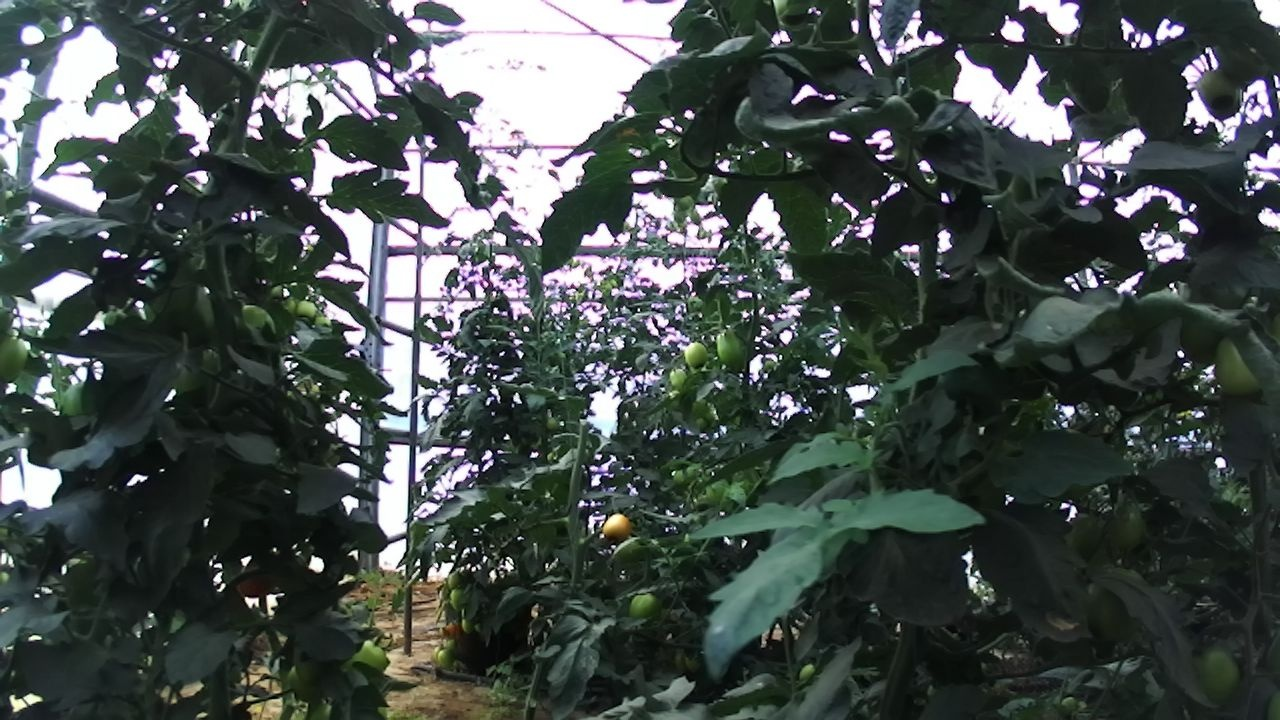tomato: (1203, 324, 1280, 412), (1179, 634, 1259, 716), (1050, 500, 1126, 575), (1187, 62, 1262, 130), (1074, 574, 1137, 648), (332, 628, 402, 691), (1099, 496, 1155, 557), (0, 324, 46, 395), (709, 319, 757, 378), (621, 583, 672, 635), (593, 506, 643, 548), (677, 335, 714, 376), (661, 362, 695, 393), (291, 293, 321, 325), (791, 657, 822, 687), (446, 584, 471, 611), (443, 567, 466, 591), (435, 644, 457, 669), (443, 616, 464, 640), (459, 613, 476, 639)
